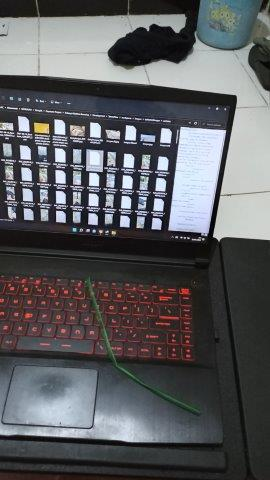sedotan: (88, 279, 200, 413)
